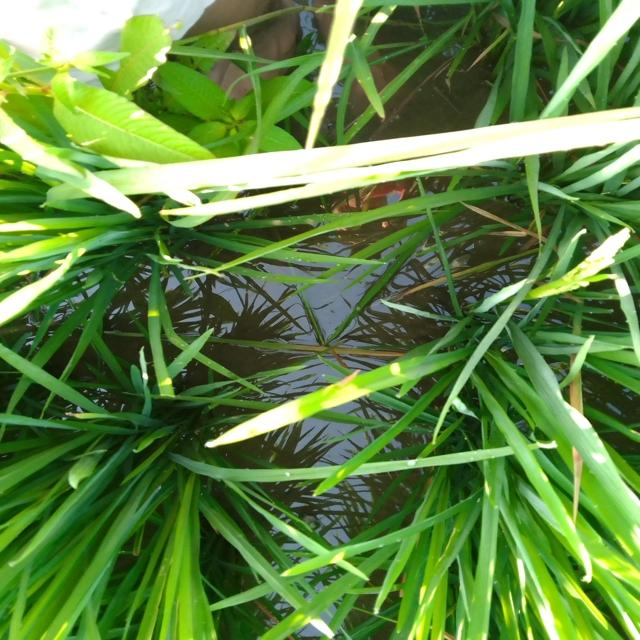Brown spot: (187, 347, 424, 460)
